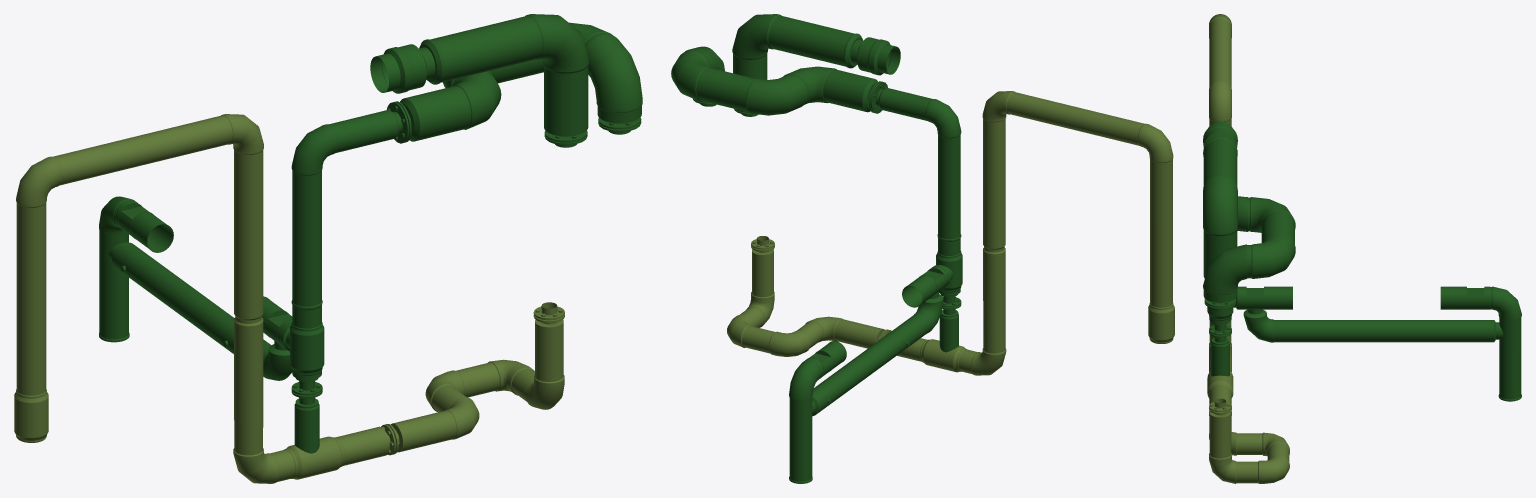
The model's file is PumpComplex-1.fbx.
3 views of the same model, side by side, from view 1: azimuth 30°, elevation 25°; view 2: azimuth 150°, elevation 25°; view 3: azimuth 270°, elevation 25° (orthographic). The views are drawn at different scales.
Visible parts, largest first — view 1: PumpComplex-1_Main-2, PumpComplex-1_Main-3, PumpComplex-1_Main-14, PumpComplex-1_Main-8, PumpComplex-1_Main-12, PumpComplex-1_Main-11, PumpComplex-1_Outflow-2, PumpComplex-1_Main-13, PumpComplex-1_Outflow-3, PumpComplex-1_Main-5, PumpComplex-1_Main-4, PumpComplex-1_Main-9 (+5 smaller); view 2: PumpComplex-1_Main-3, PumpComplex-1_Main-14, PumpComplex-1_Main-2, PumpComplex-1_Main-8, PumpComplex-1_Outflow-2, PumpComplex-1_Outflow-3, PumpComplex-1_Main-12, PumpComplex-1_Main-11, PumpComplex-1_Main-13, PumpComplex-1_Main-5, PumpComplex-1_Main-4, PumpComplex-1_Main-1 (+5 smaller); view 3: PumpComplex-1_Outflow-2, PumpComplex-1_Main-3, PumpComplex-1_Main-8, PumpComplex-1_Main-2, PumpComplex-1_Outflow-3, PumpComplex-1_Main-13, PumpComplex-1_Outflow-1, PumpComplex-1_Main-7, PumpComplex-1_Main-12, PumpComplex-1_Main-1, PumpComplex-1_Main-10, PumpComplex-1_Main-9 (+1 smaller).
Boxes of the visible parts, box(x1,y1,x2,y2) form: PumpComplex-1_Main-2: box(419, 14, 589, 147); PumpComplex-1_Main-3: box(400, 22, 642, 141); PumpComplex-1_Main-14: box(14, 156, 62, 442); PumpComplex-1_Main-8: box(425, 302, 564, 439); PumpComplex-1_Main-12: box(221, 114, 263, 323); PumpComplex-1_Main-11: box(233, 317, 295, 483); PumpComplex-1_Outflow-2: box(109, 242, 292, 380); PumpComplex-1_Main-13: box(53, 115, 232, 185); PumpComplex-1_Outflow-3: box(99, 196, 173, 342); PumpComplex-1_Main-5: box(291, 170, 322, 328); PumpComplex-1_Main-4: box(291, 101, 411, 175); PumpComplex-1_Main-9: box(336, 410, 456, 465); PumpComplex-1_Main-3: box(671, 46, 877, 115); PumpComplex-1_Main-14: box(1138, 123, 1174, 343); PumpComplex-1_Main-2: box(732, 14, 862, 116); PumpComplex-1_Main-8: box(727, 236, 842, 356); PumpComplex-1_Outflow-2: box(812, 292, 943, 416); PumpComplex-1_Outflow-3: box(789, 341, 846, 483); PumpComplex-1_Main-12: box(982, 91, 1014, 252); PumpComplex-1_Main-11: box(958, 247, 1006, 375); PumpComplex-1_Main-13: box(1006, 92, 1144, 145); PumpComplex-1_Main-5: box(937, 134, 961, 255); PumpComplex-1_Main-4: box(869, 81, 961, 138); PumpComplex-1_Main-1: box(850, 37, 900, 75); PumpComplex-1_Outflow-2: box(1243, 309, 1503, 342); PumpComplex-1_Main-3: box(1203, 196, 1295, 311); PumpComplex-1_Main-8: box(1209, 398, 1289, 483); PumpComplex-1_Main-2: box(1203, 137, 1237, 278); PumpComplex-1_Outflow-3: box(1440, 286, 1521, 401); PumpComplex-1_Main-13: box(1209, 18, 1231, 87); PumpComplex-1_Outflow-1: box(1232, 286, 1292, 309); PumpComplex-1_Main-7: box(1209, 324, 1231, 376); PumpComplex-1_Main-12: box(1209, 80, 1231, 125); PumpComplex-1_Main-1: box(1203, 121, 1237, 147); PumpComplex-1_Main-10: box(1207, 371, 1233, 398); PumpComplex-1_Main-9: box(1209, 385, 1231, 432).
Size of the model in its own units: 373 by 232 by 220.
